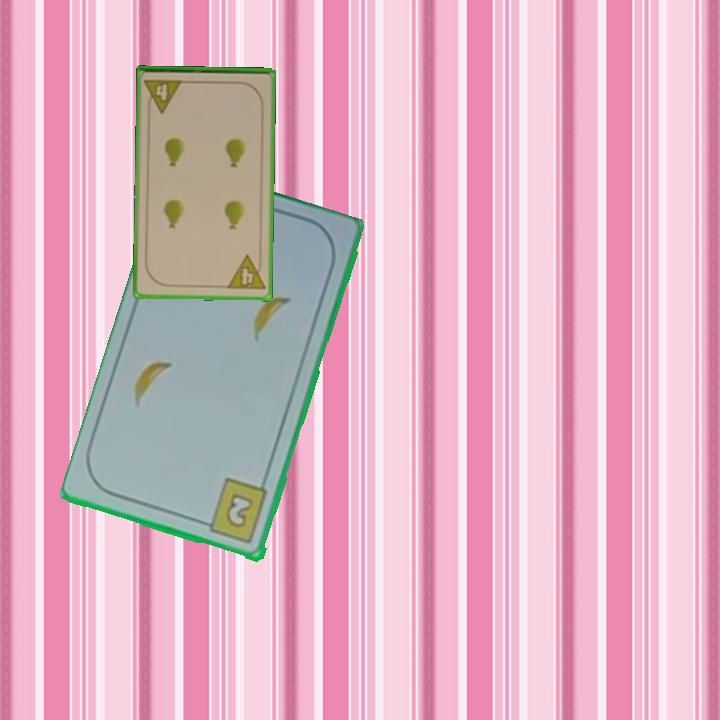2b: (197, 475, 271, 547)
4p: (223, 252, 268, 293), (141, 76, 185, 115)
